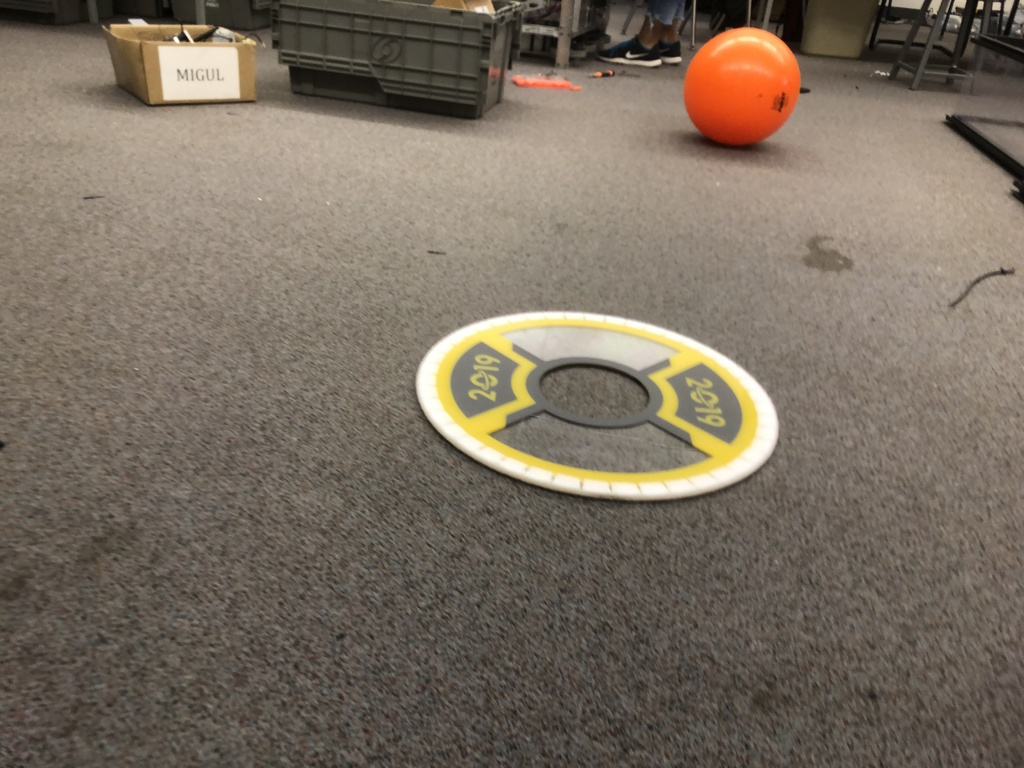hatch_panel: (405, 299, 809, 511)
